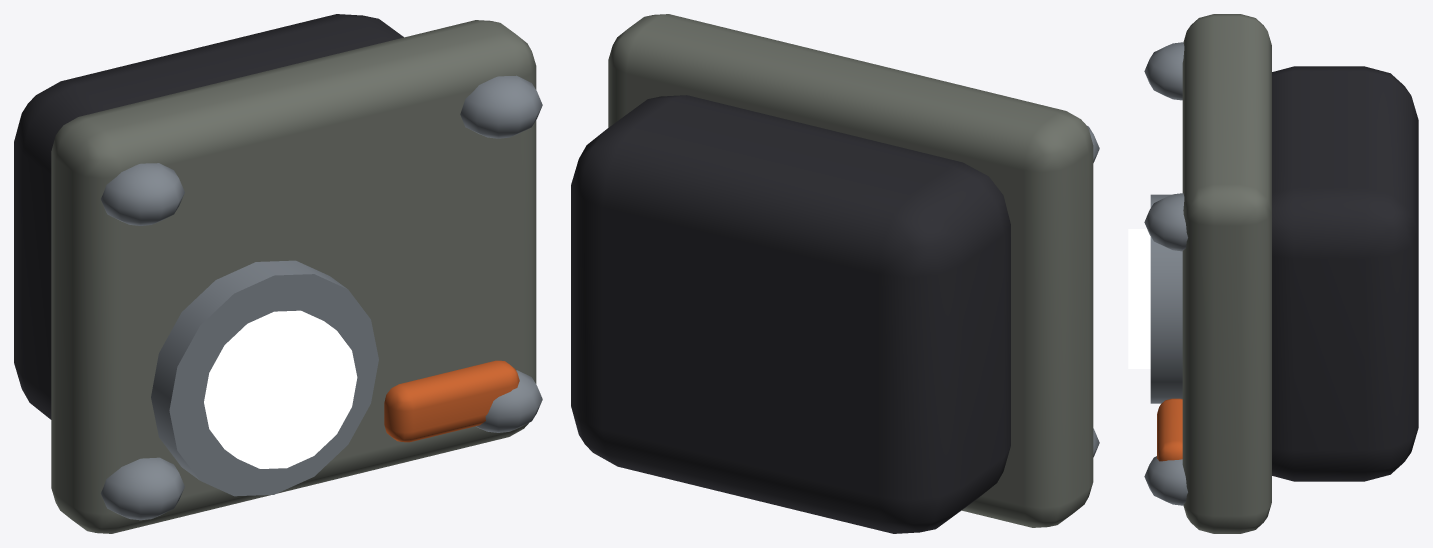
The model's file is co_slug.glb.
The picture shows the model from 3 angles, left to right: view 1: azimuth 30°, elevation 25°; view 2: azimuth 150°, elevation 25°; view 3: azimuth 270°, elevation 25°; orthographic projection. The views are drawn at different scales.
Visible parts, largest first — view 1: co_slug; view 2: co_slug; view 3: co_slug.
Boxes of the visible parts, bbox=[...] form: co_slug: bbox=[14, 14, 542, 533]; co_slug: bbox=[571, 14, 1099, 533]; co_slug: bbox=[1128, 14, 1418, 533].
Size of the model in its own units: 0.1548 by 0.129 by 0.0978.
